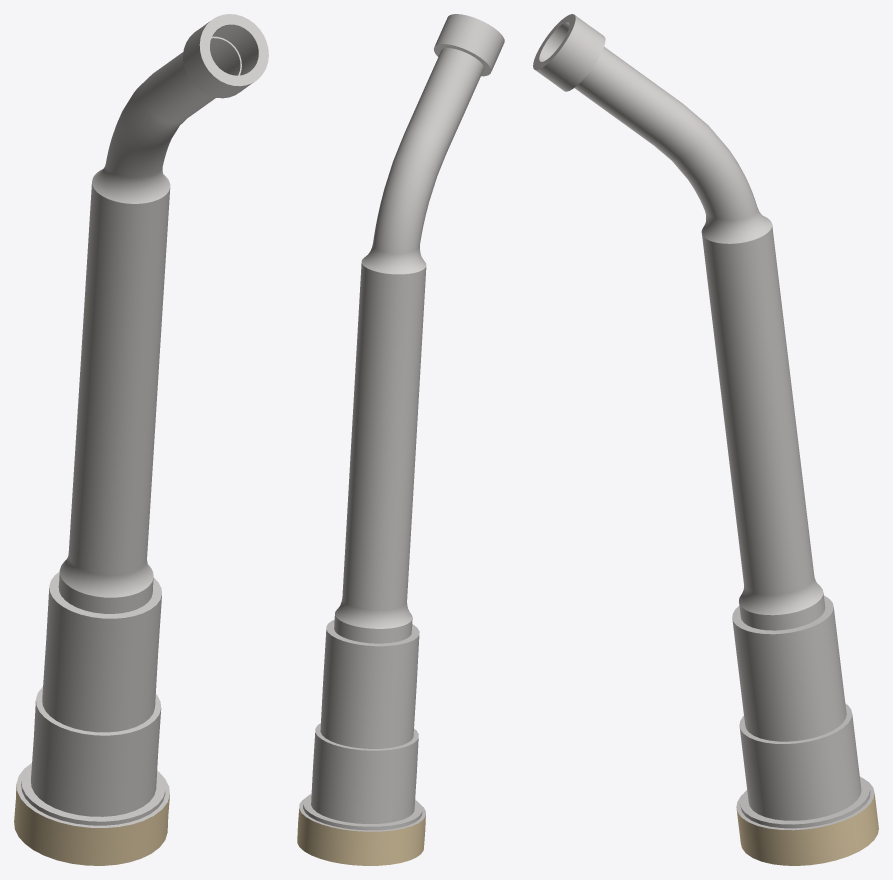
Rendered from Body24.001.dae.
3 views of the same model, side by side, from view 1: azimuth 30°, elevation 25°; view 2: azimuth 150°, elevation 25°; view 3: azimuth 270°, elevation 25° (orthographic). The views are drawn at different scales.
Visible parts, largest first — view 1: Body24_000; view 2: Body24_000; view 3: Body24_000.
Boxes of the visible parts, bbox=[...] form: Body24_000: bbox=[14, 14, 268, 865]; Body24_000: bbox=[297, 14, 504, 865]; Body24_000: bbox=[533, 14, 878, 865].
Bounding box in the file's own units: 0.049 × 0.1219 × 0.3209.
